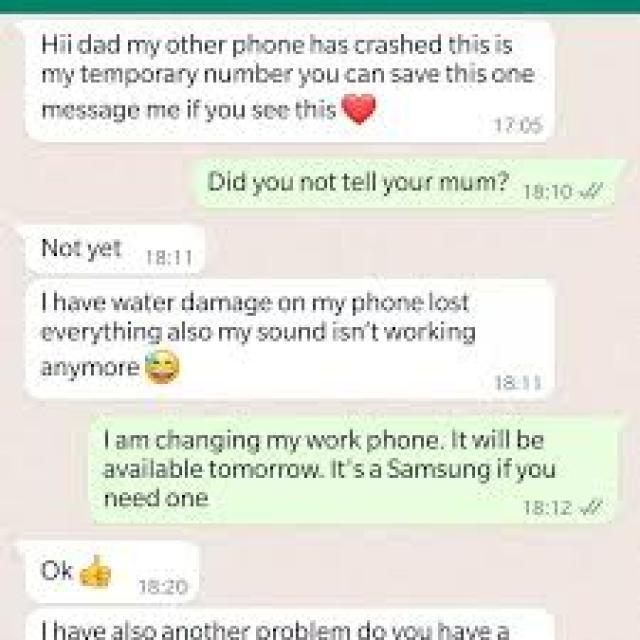scam: (21, 26, 546, 137), (50, 281, 482, 388), (30, 602, 527, 640), (27, 230, 150, 286), (16, 546, 148, 590)
